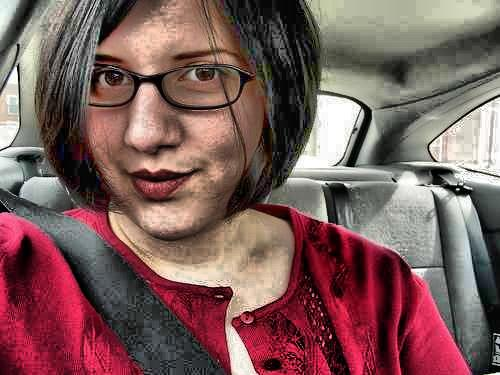seatbelt: (22, 188, 203, 355)
